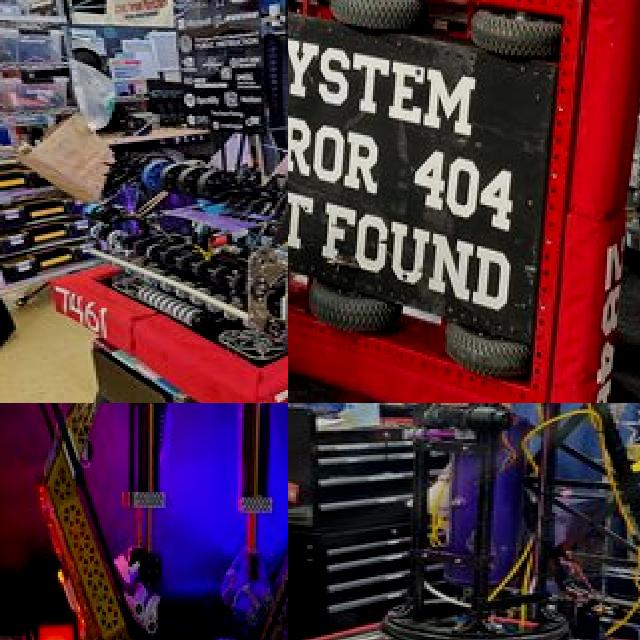FRC-Robots: (288, 0, 640, 403), (0, 50, 288, 403), (288, 403, 640, 640), (0, 403, 220, 640), (208, 403, 288, 640)
